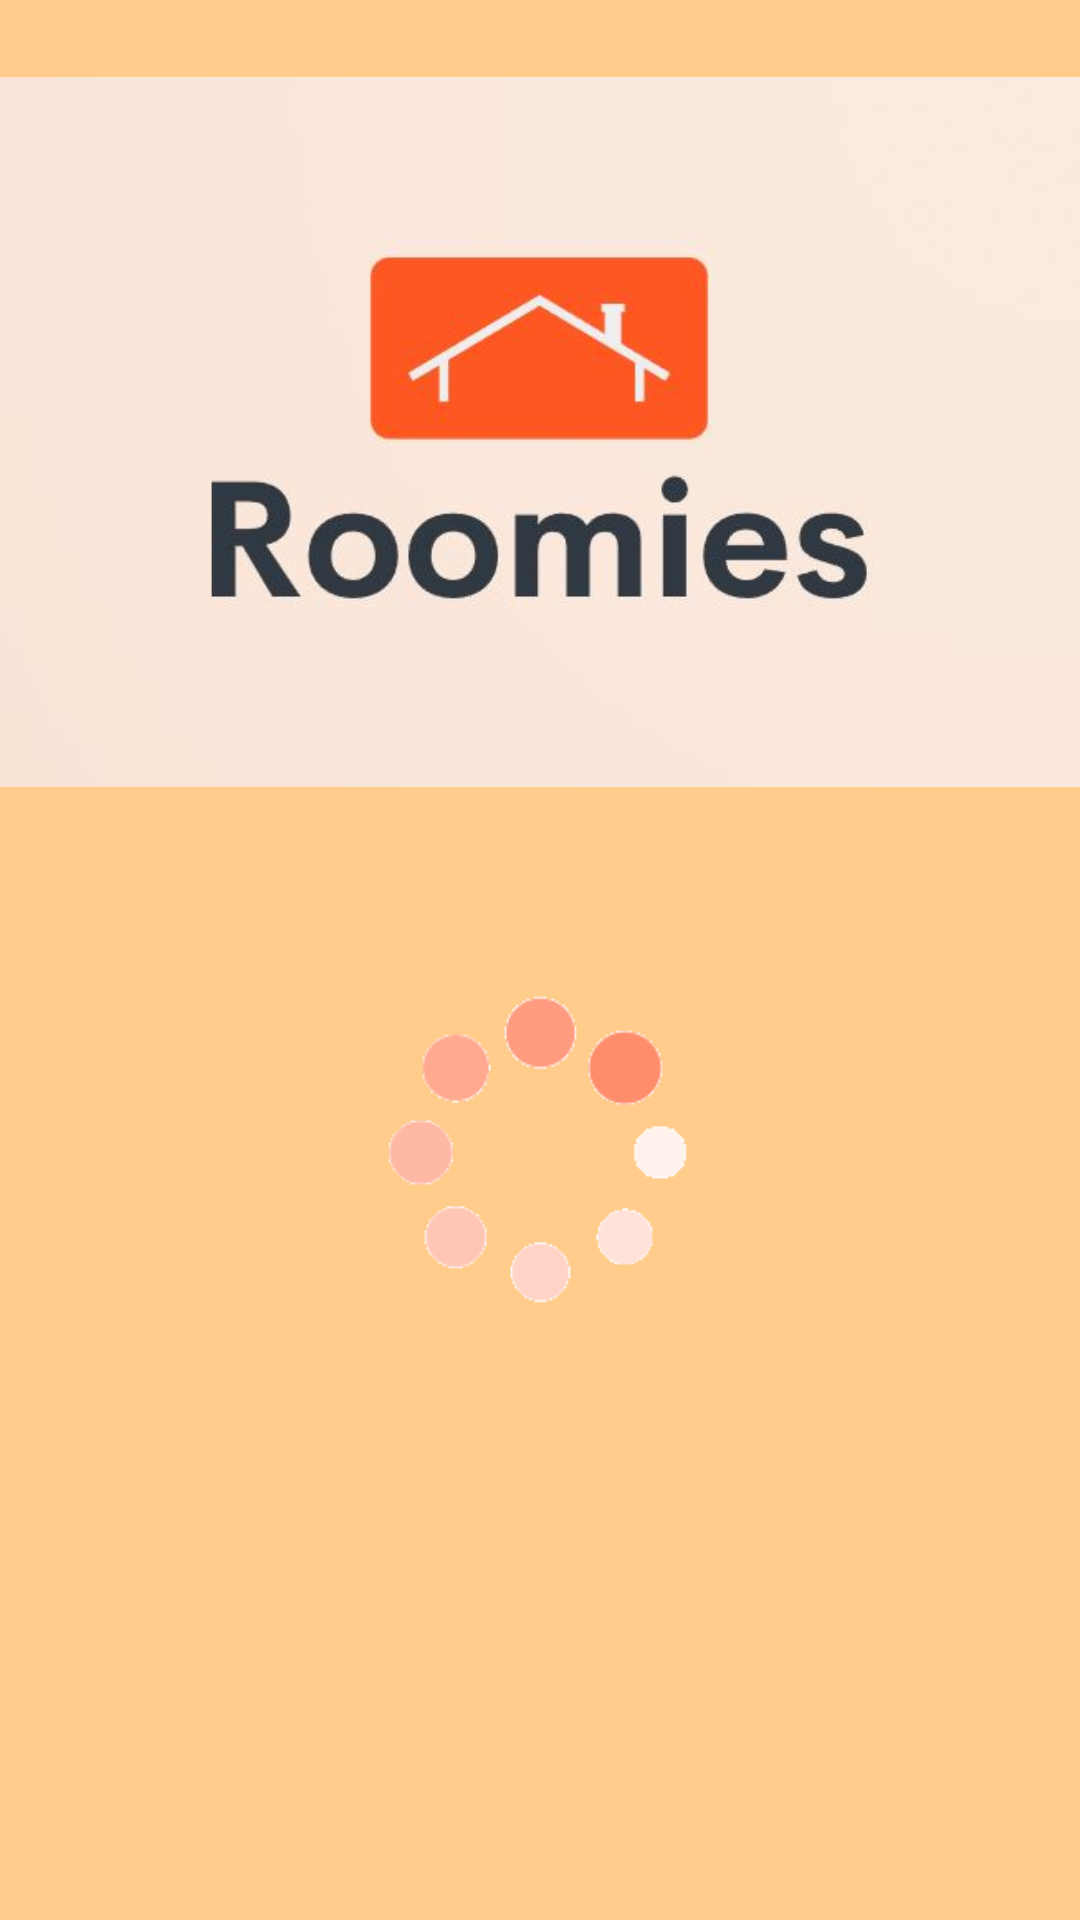

Where icons sit on this 1080px×1920px app screen, as (x1, y1, x2, y2):
cargando: (388, 996, 687, 1303)
